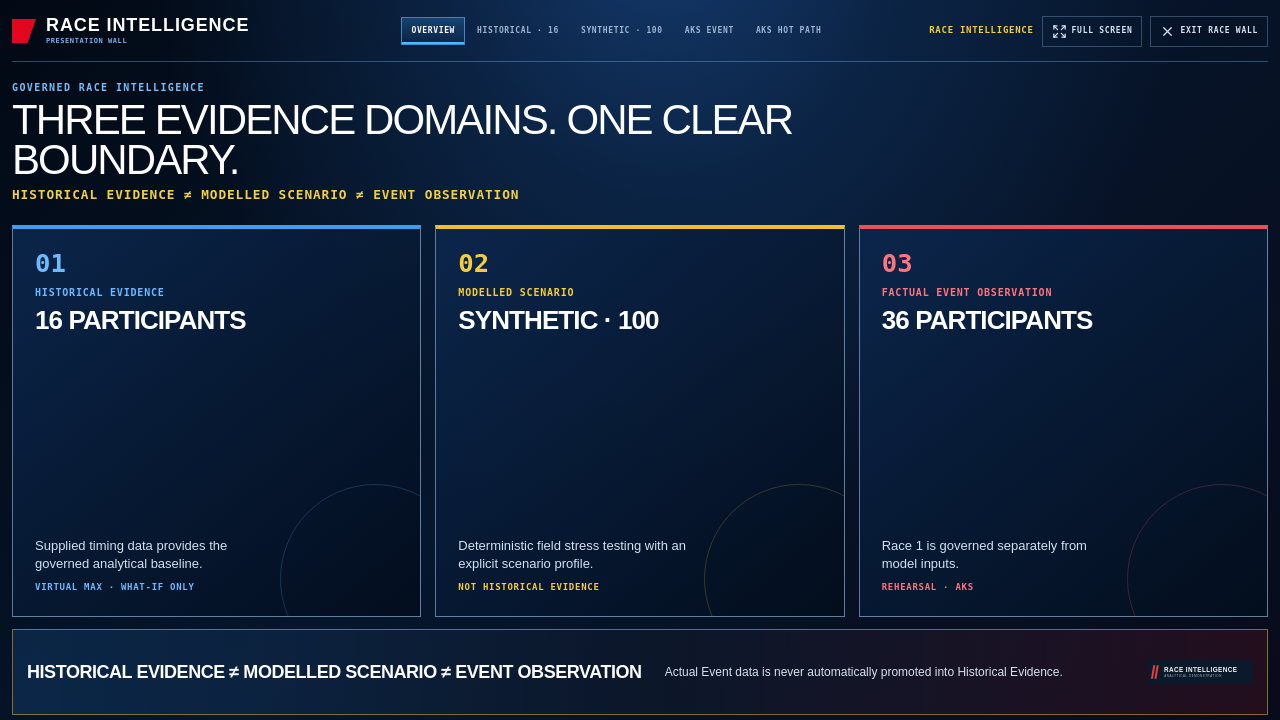
Test: RaceWall › uses bounded Event Operations contracts and keeps factual state visible when replay fails
Click the button "AKS EVENT".
click(709, 31)  # box left=675, top=17, right=744, bottom=45
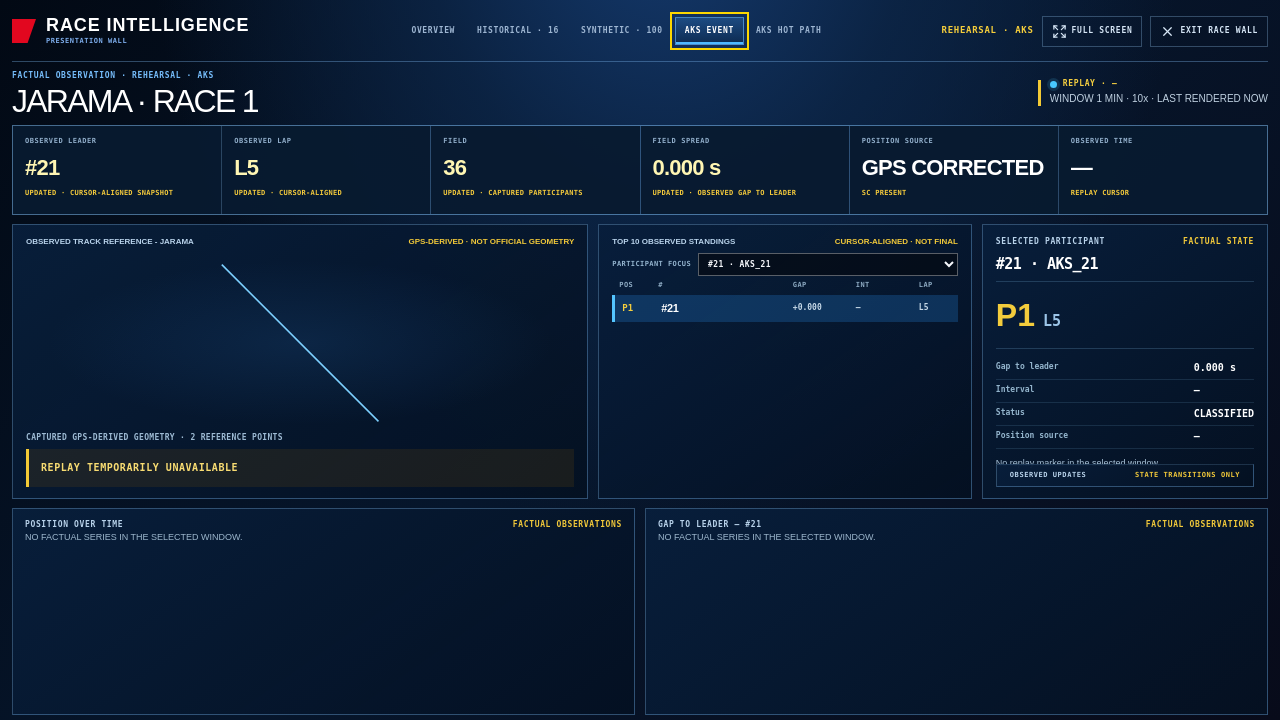
Expected: the heading "JARAMA · RACE 1" is shown, left=12, top=84, right=258, bottom=116
Expected: the text "OBSERVED LEADER" is shown, left=25, top=137, right=97, bottom=145
Expected: the text "P1" below "PARTICIPANT FOCUS" is shown, left=622, top=303, right=633, bottom=313
